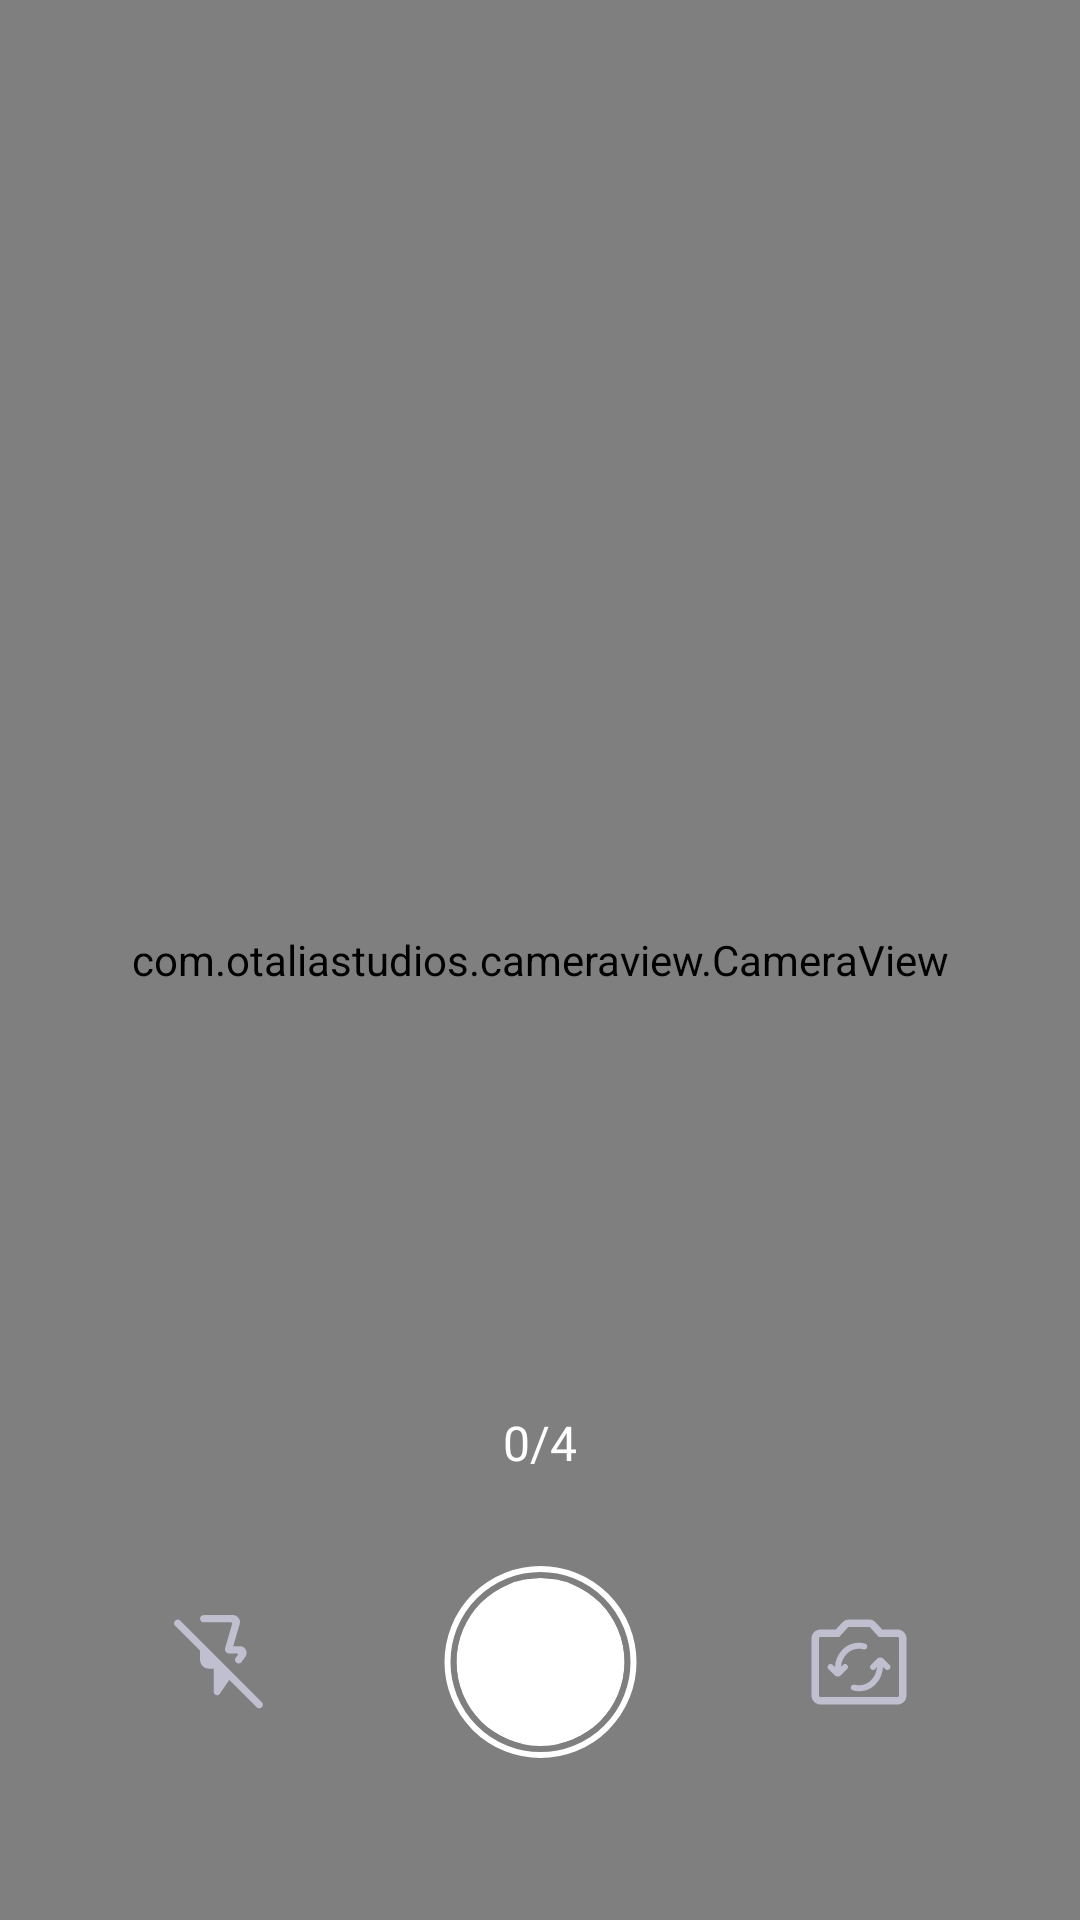

Where icons sit on this 1080×1920 app screen, as (x1, y1, x2, y2):
change camera mode: (811, 1619, 907, 1705)
flash off: (174, 1615, 263, 1708)
